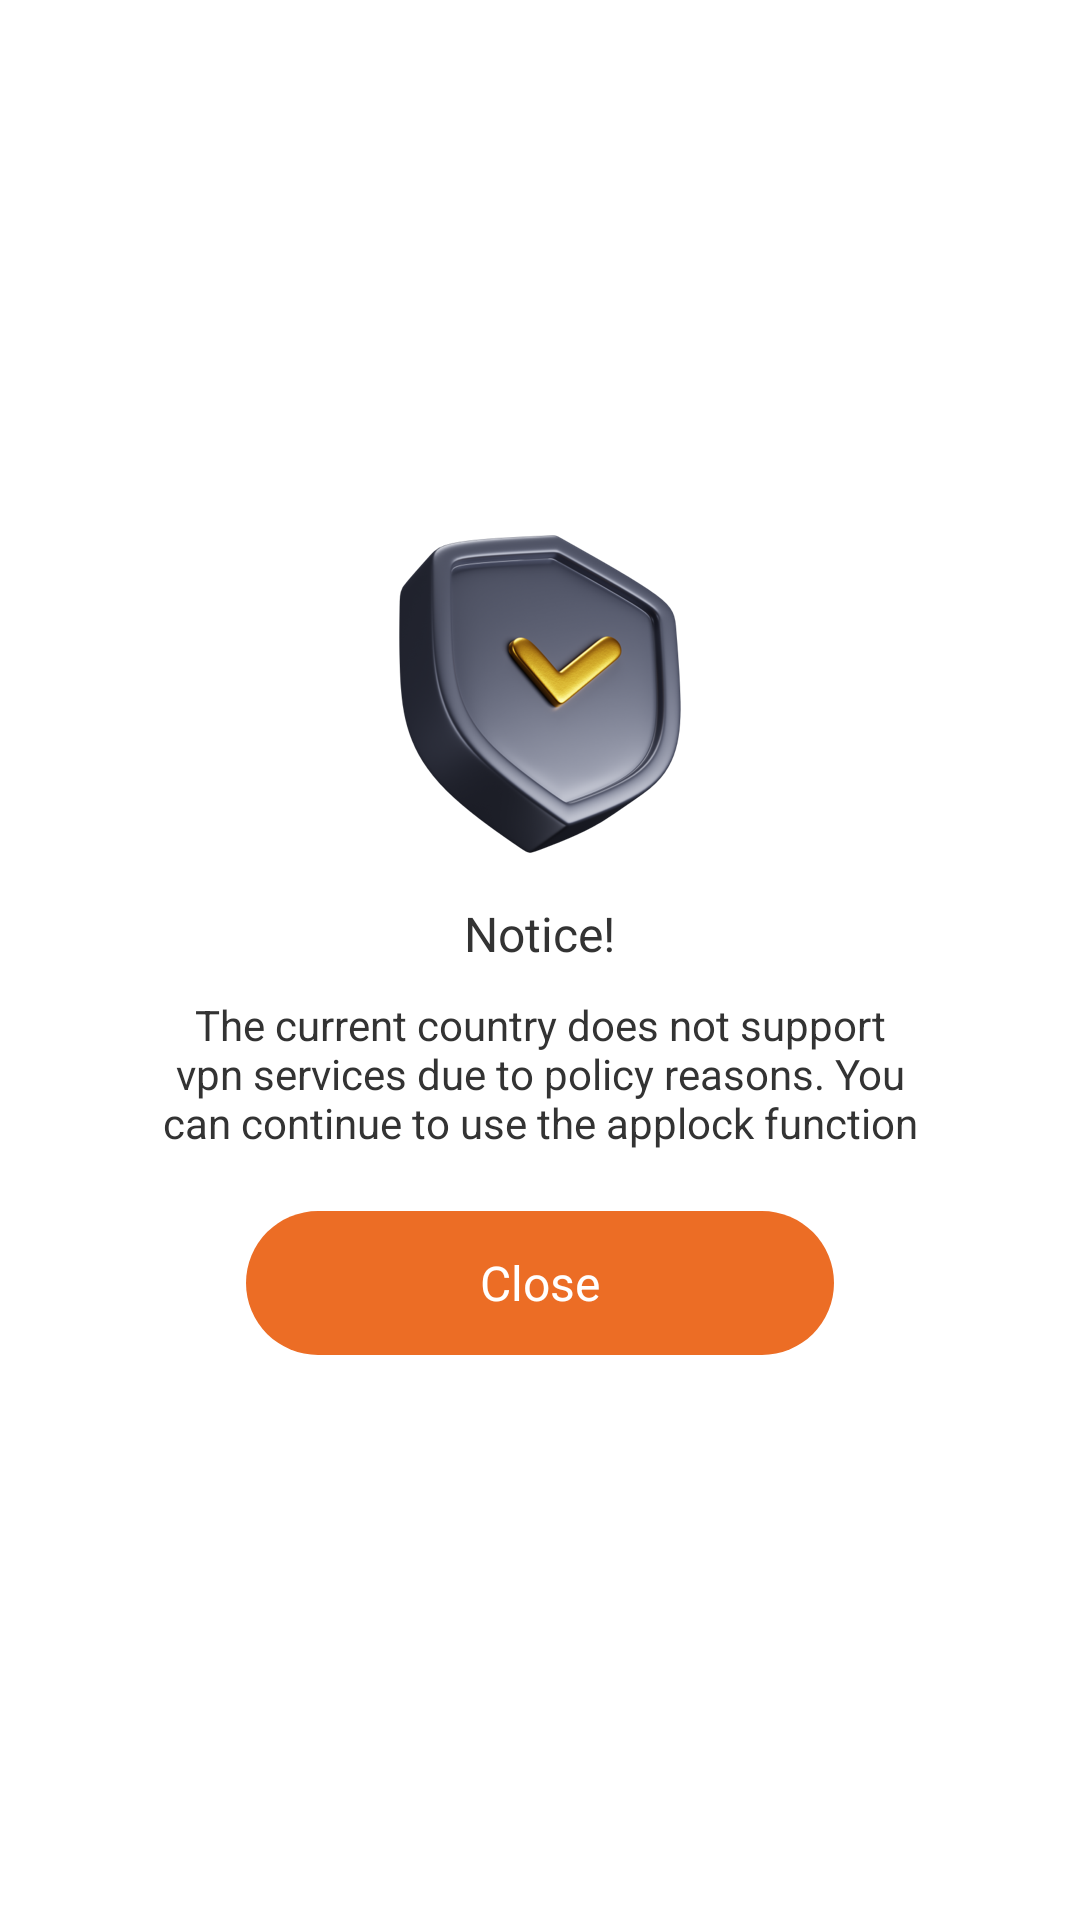

Where to tap for icons on this 1080px×1920px app screen, as (x,y):
success: (540,694)
